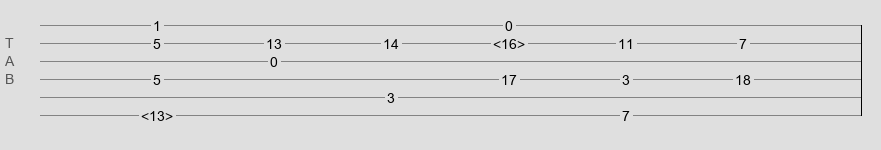0: (270, 54, 278, 64), (505, 18, 513, 28)
1: (153, 18, 161, 28)
11: (618, 36, 634, 46)
13: (266, 36, 282, 46)
14: (383, 36, 399, 46)
17: (501, 72, 517, 82)
18: (735, 72, 751, 82)
3: (387, 90, 395, 100), (622, 72, 630, 82)
5: (153, 36, 161, 46), (153, 72, 161, 82)
7: (622, 108, 630, 118), (739, 36, 747, 46)
harmonic: (141, 108, 173, 118), (493, 36, 525, 46)
